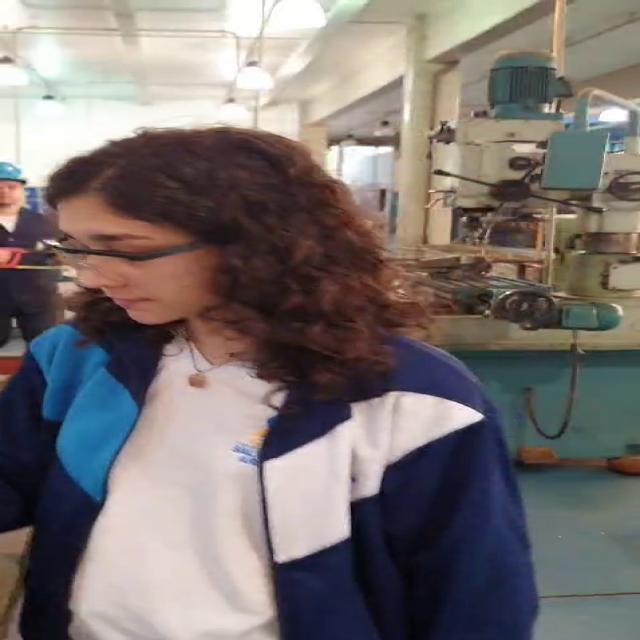oculos-epi: (49, 239, 213, 284)
